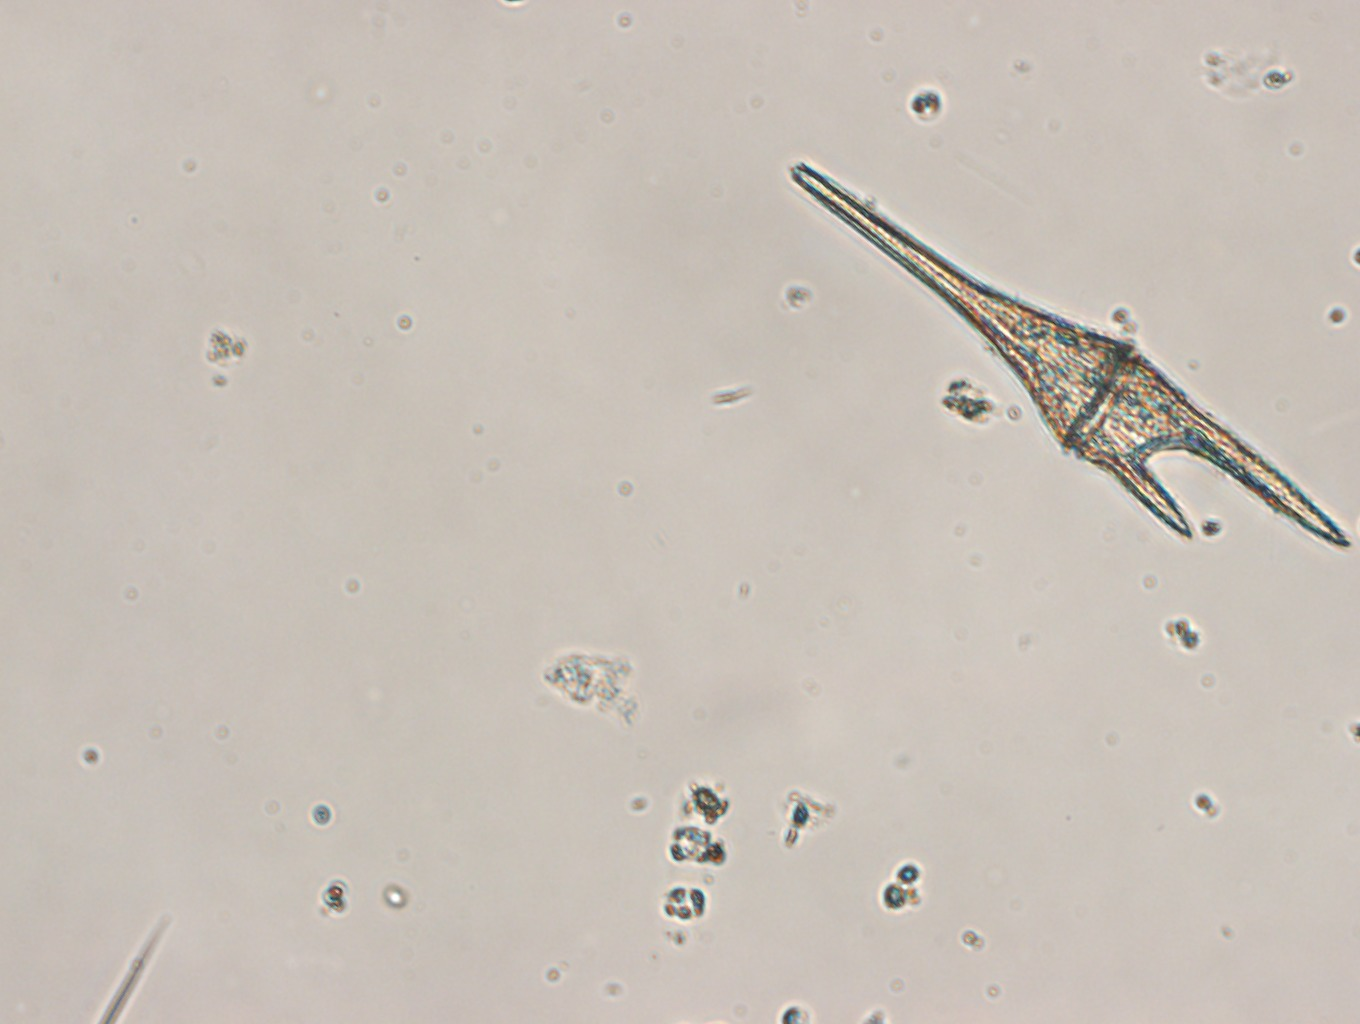ceratium furca: (790, 163, 1351, 552)
